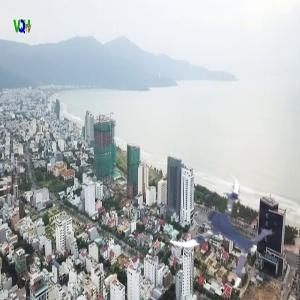drone: (170, 174, 277, 281)
